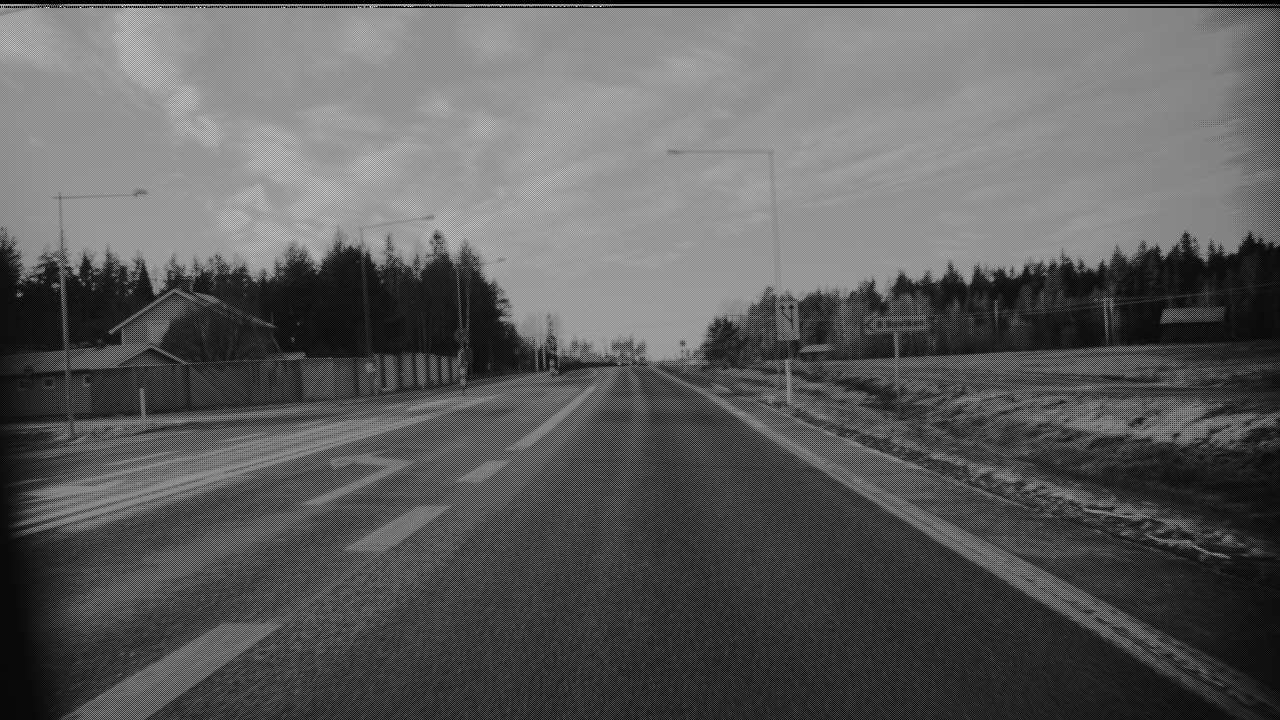pole: (492, 149, 514, 398), (1204, 191, 1225, 427), (903, 223, 922, 387)
